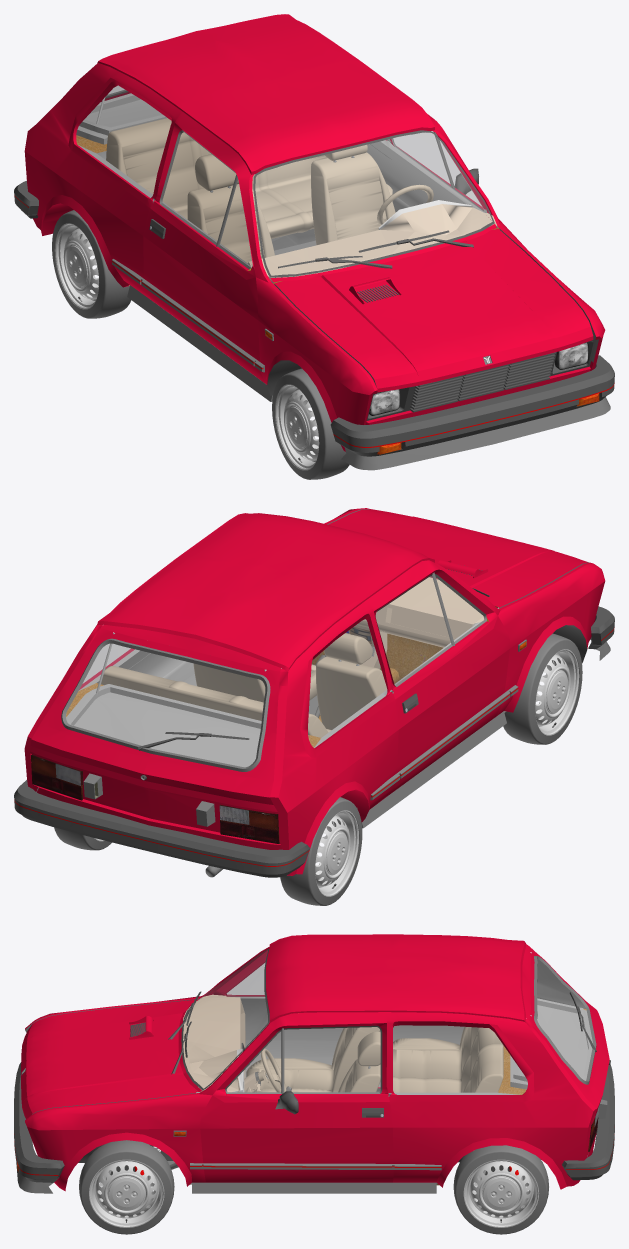
The model's file is 1985_yugo_gv.glb.
3 renders of one model, top to bottom at view 1: azimuth 30°, elevation 25°; view 2: azimuth 150°, elevation 25°; view 3: azimuth 270°, elevation 25°, orthographic. The views are drawn at different scales.
Parts seen in each view (by area): view 1: Object_35, Object_41, Object_53, Object_44, Object_28, Object_55, Object_42, Object_27, Object_26, Object_47, Object_19, Object_21 (+6 smaller); view 2: Object_35, Object_41, Object_42, Object_53, Object_44, Object_55, Object_28, Object_26, Object_47, Object_21, Object_19, Object_39 (+7 smaller); view 3: Object_35, Object_41, Object_42, Object_44, Object_28, Object_53, Object_55, Object_20, Object_18, Object_26, Object_48, Object_46 (+6 smaller).
Boxes of the visible parts, <box> form: Object_35: <box>24,14,605,451</box>; Object_41: <box>76,85,492,275</box>; Object_53: <box>14,130,614,460</box>; Object_44: <box>105,90,610,470</box>; Object_28: <box>106,118,392,238</box>; Object_55: <box>248,204,496,280</box>; Object_42: <box>76,93,498,283</box>; Object_27: <box>311,152,395,245</box>; Object_26: <box>187,184,274,263</box>; Object_47: <box>272,368,349,479</box>; Object_19: <box>275,384,319,470</box>; Object_21: <box>55,223,99,309</box>; Object_35: <box>24,508,605,875</box>; Object_41: <box>66,576,483,766</box>; Object_42: <box>66,607,498,808</box>; Object_53: <box>14,565,614,886</box>; Object_44: <box>61,508,610,877</box>; Object_55: <box>346,577,483,668</box>; Object_28: <box>101,666,331,737</box>; Object_26: <box>316,656,387,729</box>; Object_47: <box>503,633,582,744</box>; Object_21: <box>315,810,358,896</box>; Object_19: <box>535,649,579,735</box>; Object_39: <box>31,754,279,843</box>; Object_35: <box>21,934,609,1191</box>; Object_41: <box>183,950,592,1094</box>; Object_42: <box>191,959,592,1184</box>; Object_44: <box>16,956,607,1193</box>; Object_28: <box>393,1026,503,1151</box>; Object_53: <box>14,949,614,1221</box>; Object_55: <box>183,994,260,1092</box>; Object_20: <box>463,1159,539,1227</box>; Object_18: <box>89,1159,164,1227</box>; Object_26: <box>246,1027,380,1092</box>; Object_48: <box>79,1140,174,1234</box>; Object_46: <box>453,1145,548,1234</box>.
Bounding box in the file's own units: 44.59 × 37.24 × 93.62.
Materials: 45 (17 with a texture image).
